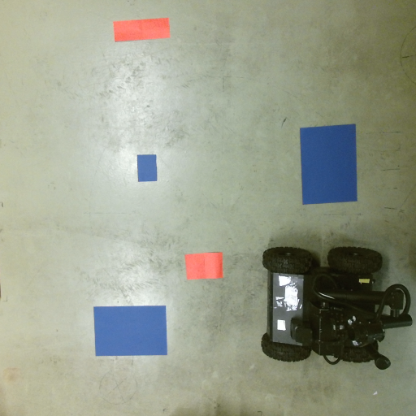Blue: (296, 124, 360, 203), (93, 305, 169, 356), (136, 155, 157, 182)
Jaguar: (262, 244, 416, 373)
Red: (110, 19, 172, 42), (182, 254, 226, 280)
